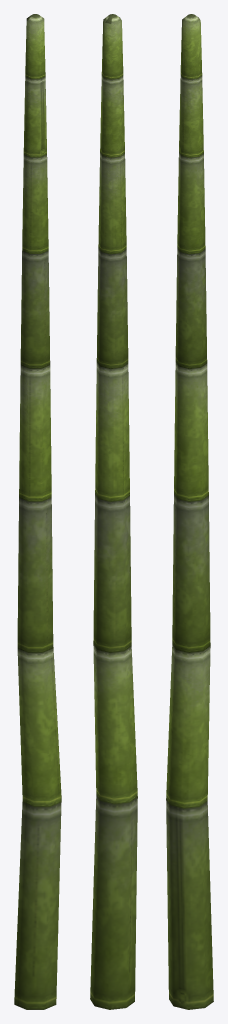
Rendered from BambooSet_part_2.fbx.
3 renders of one model, left to right at view 1: azimuth 90°, elevation 25°; view 2: azimuth 150°, elevation 25°; view 3: azimuth 330°, elevation 25°, orthographic.
Parts seen in each view (by area): view 1: Object_13.001; view 2: Object_13.001; view 3: Object_13.001.
Boxes of the visible parts, bbox=[...] form: Object_13.001: bbox=[14, 14, 61, 1009]; Object_13.001: bbox=[90, 14, 137, 1009]; Object_13.001: bbox=[166, 14, 213, 1009].
Bounding box in the file's own units: 34.78 × 904 × 39.07.
